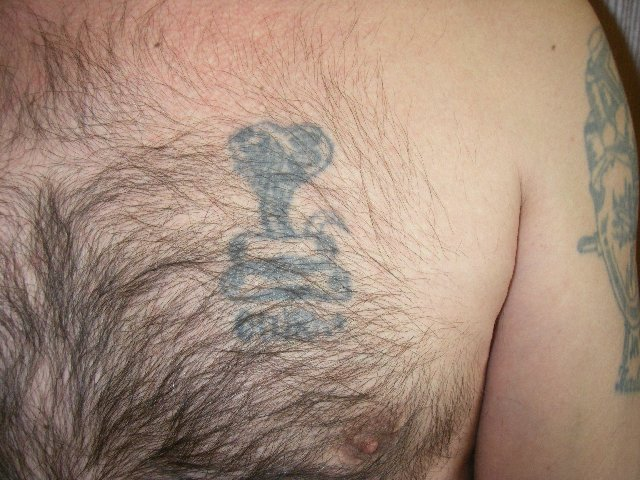tatu7_zmeya: (189, 100, 376, 374)
